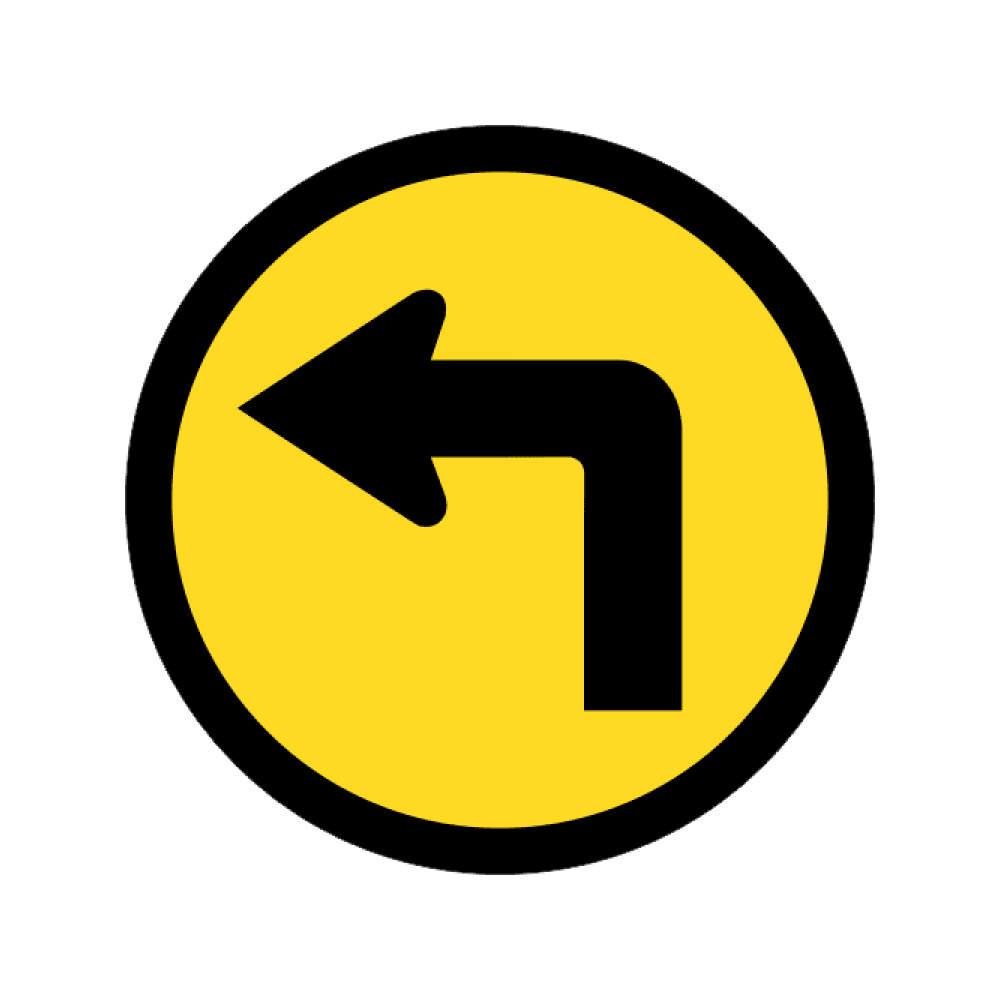left: (227, 288, 717, 727)
